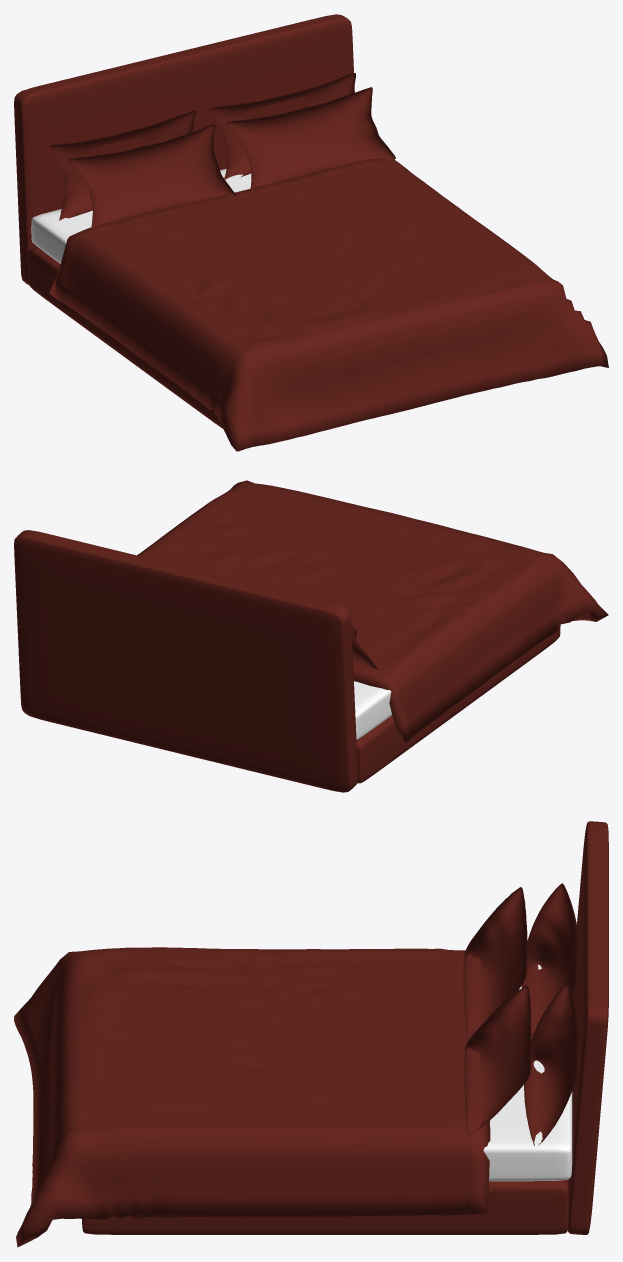
The model's file is bed.glb.
The picture shows the model from 3 angles, top to bottom: view 1: azimuth 30°, elevation 25°; view 2: azimuth 150°, elevation 25°; view 3: azimuth 270°, elevation 25°; orthographic projection. The views are drawn at different scales.
Parts seen in each view (by area): view 1: Plane.015, Cube.063, Plane.017, Plane.016, Plane.009, Cube.061, Plane.008, Cube.062; view 2: Cube.063, Plane.015, Cube.061, Cube.062, Plane.017; view 3: Plane.015, Cube.061, Cube.063, Plane.016, Plane.017, Cube.062, Plane.008, Plane.009.
Part boxes in pixels (x1,y1,x2,y2): Plane.015: (49,158,608,451); Cube.063: (14,14,354,284); Plane.017: (69,124,236,231); Plane.016: (226,87,395,193); Plane.009: (50,110,196,220); Cube.061: (28,246,222,428); Plane.008: (210,73,355,179); Cube.062: (31,169,251,263); Cube.063: (14,530,357,792); Plane.015: (137,480,608,742); Cube.061: (356,625,560,783); Cube.062: (354,681,391,739); Plane.017: (351,626,377,670); Plane.015: (14,947,490,1247); Cube.061: (82,1179,568,1234); Cube.063: (568,821,608,1234); Plane.016: (464,985,531,1135); Plane.017: (463,887,527,1040); Cube.062: (483,965,572,1181); Plane.008: (524,983,578,1145); Plane.009: (521,883,578,1037).
Bounding box in the file's own units: 0.1517 × 0.0729 × 0.1718.
